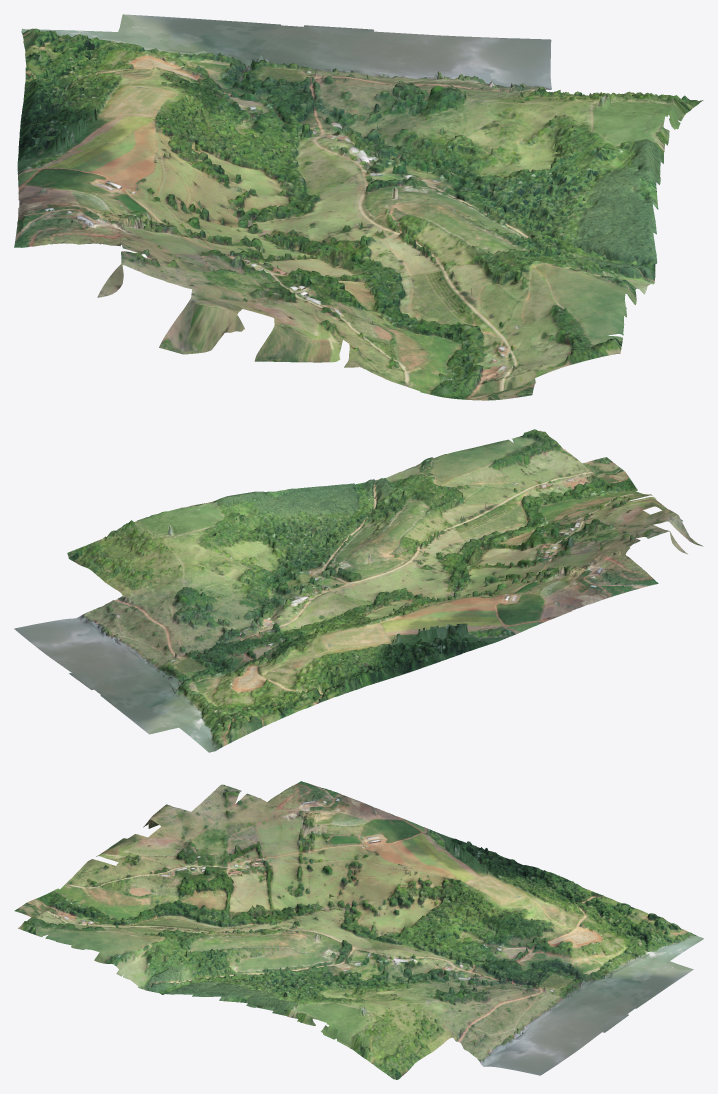
3 views of the same model, one above another, from view 1: azimuth 30°, elevation 25°; view 2: azimuth 150°, elevation 25°; view 3: azimuth 270°, elevation 25° (orthographic). The views are drawn at different scales.
Visible parts, largest first — view 1: p6; view 2: p6; view 3: p6.
Boxes of the visible parts, <box> form: p6: <box>14,14,703,400</box>; p6: <box>14,429,703,752</box>; p6: <box>14,781,703,1079</box>.
Size of the model in its own units: 157 by 25.52 by 190.
Materials: 1 (1 with a texture image).
